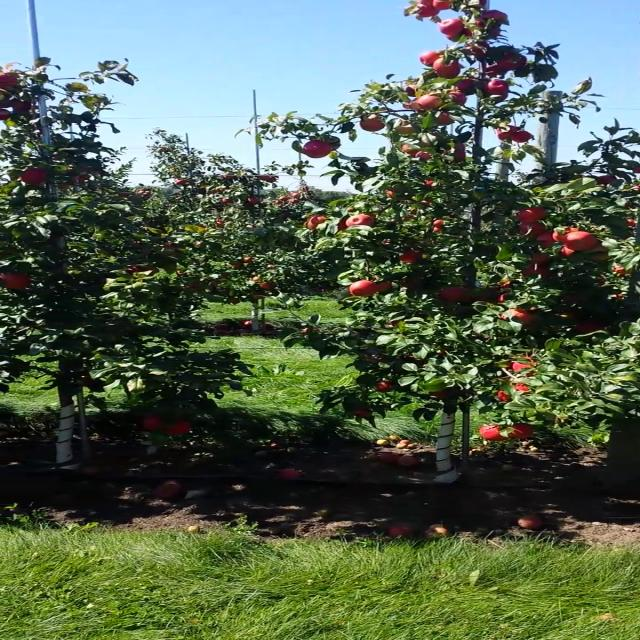apple: (302, 140, 334, 160), (564, 231, 596, 251), (499, 309, 532, 327), (496, 53, 526, 71), (434, 58, 460, 78), (348, 280, 376, 298), (513, 357, 536, 378), (438, 287, 468, 303), (479, 426, 509, 442), (1, 274, 31, 290), (20, 169, 49, 185), (438, 20, 466, 36), (484, 80, 508, 98), (453, 79, 480, 95), (163, 422, 190, 438), (462, 41, 490, 56), (521, 209, 547, 225), (582, 245, 608, 261), (362, 115, 386, 132), (554, 228, 583, 242), (444, 90, 468, 106), (445, 27, 472, 41), (520, 223, 547, 237), (347, 214, 376, 227), (483, 61, 505, 78), (417, 95, 443, 109), (393, 120, 419, 134), (522, 264, 548, 278), (508, 425, 534, 439), (422, 52, 444, 68), (128, 266, 162, 276), (372, 380, 400, 392), (2, 100, 30, 112), (410, 96, 431, 112), (431, 388, 454, 402), (308, 215, 328, 231), (0, 72, 20, 88), (482, 9, 508, 21), (572, 324, 598, 336), (138, 418, 160, 432), (537, 232, 556, 248), (400, 248, 419, 264), (399, 144, 420, 158), (498, 125, 517, 140), (417, 6, 440, 18), (500, 280, 527, 290), (512, 130, 533, 142), (560, 248, 580, 260), (437, 112, 455, 125), (531, 254, 549, 266), (497, 293, 517, 303), (452, 152, 468, 164), (433, 0, 452, 10), (498, 389, 511, 403), (417, 0, 434, 10), (376, 283, 391, 294), (415, 151, 433, 160), (597, 174, 615, 183), (486, 28, 502, 38), (512, 384, 531, 392), (405, 85, 416, 97), (454, 140, 465, 152), (0, 108, 11, 120), (434, 220, 446, 228), (387, 191, 399, 199), (419, 201, 434, 207), (426, 179, 436, 187), (434, 228, 444, 232)
